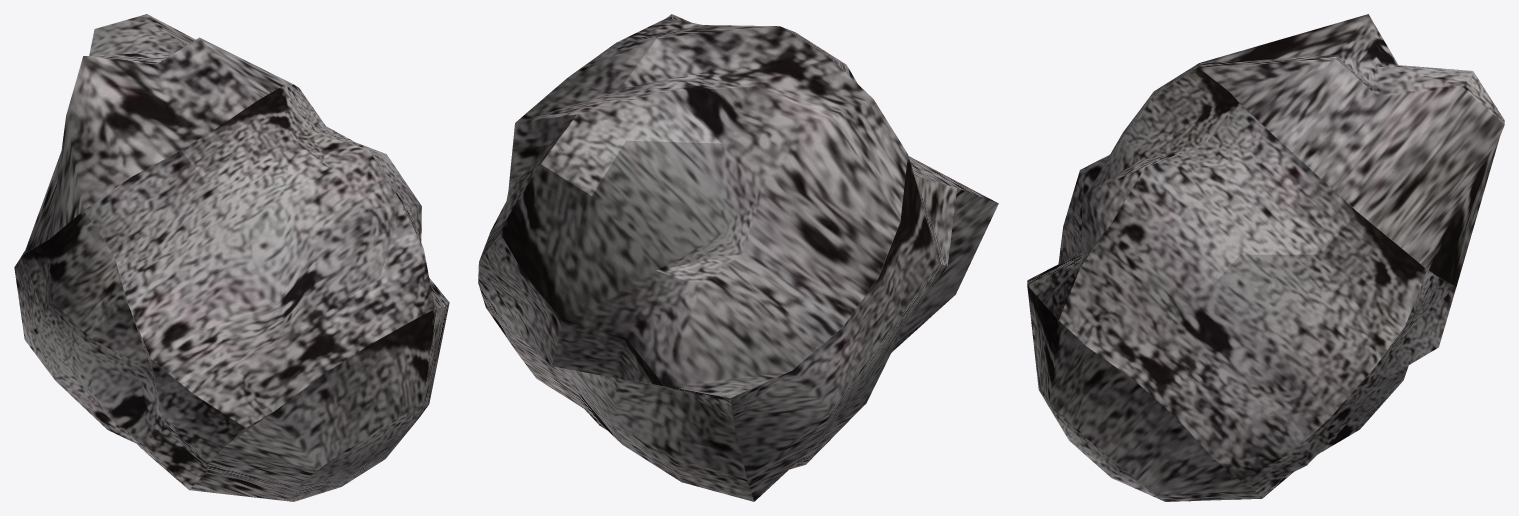
The model's file is meteor.glb.
3 renders of one model, left to right at view 1: azimuth 30°, elevation 25°; view 2: azimuth 150°, elevation 25°; view 3: azimuth 270°, elevation 25°, orthographic. The views are drawn at different scales.
Visible parts, largest first — view 1: 立方体.10; view 2: 立方体.10; view 3: 立方体.10.
Part boxes in pixels (x1,y1,x2,y2): 立方体.10: (14, 14, 449, 501); 立方体.10: (478, 14, 998, 501); 立方体.10: (1027, 14, 1504, 501).
Size of the model in its own units: 16.16 by 17.37 by 17.85.
Materials: 1 (1 with a texture image).
